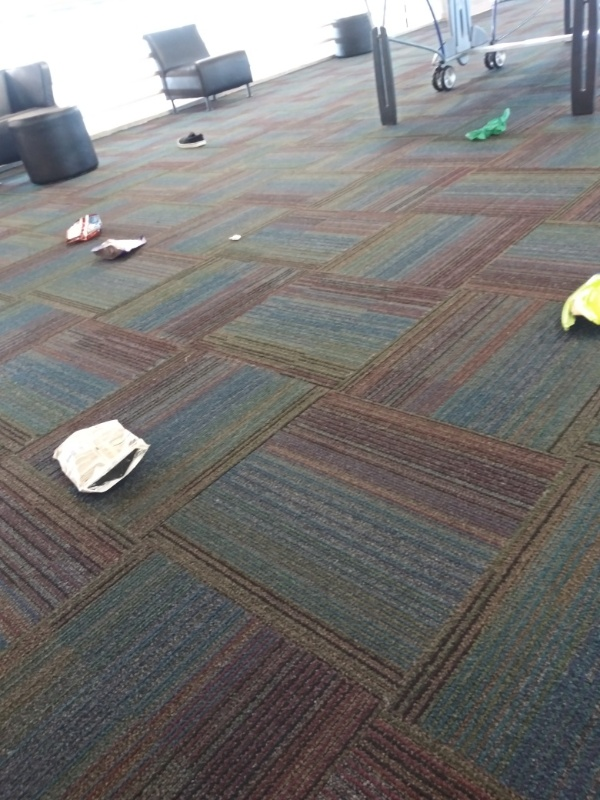bag: (46, 415, 158, 501), (553, 268, 600, 340), (56, 210, 111, 249), (87, 232, 153, 264)
